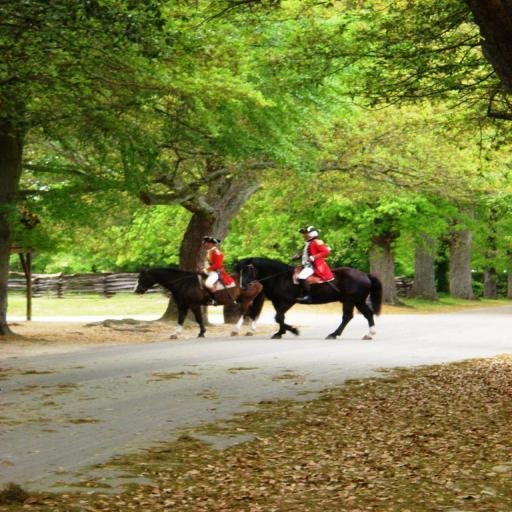horse: (230, 256, 384, 342), (128, 266, 264, 341)
